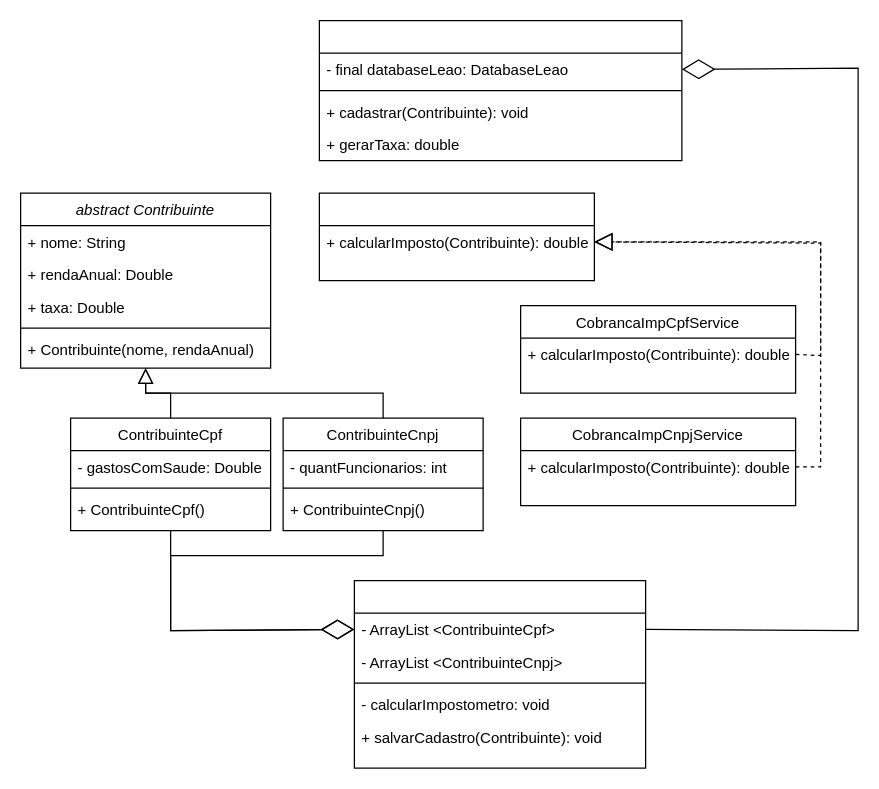
The diagram is 879 pixels wide and 789 high, and some of its shapes have lost their labels. The box of each missing label's shape, as (x1, y1, x2, y2) in pixels:
interface CobrancaImpService: (318, 192, 594, 281)
Leao: (353, 579, 646, 768)
NovoCadastroService: (318, 19, 682, 161)
